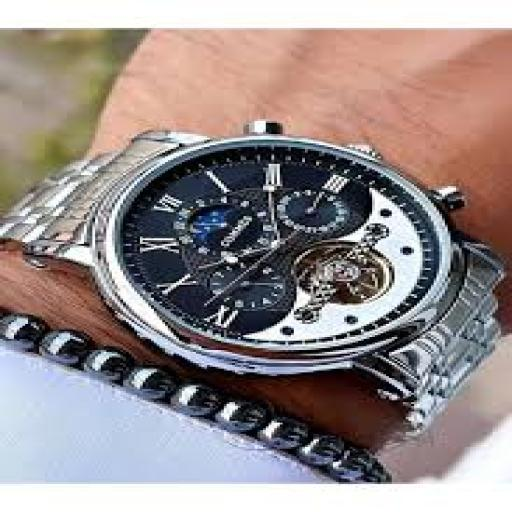KolSaati: (4, 98, 495, 433)
